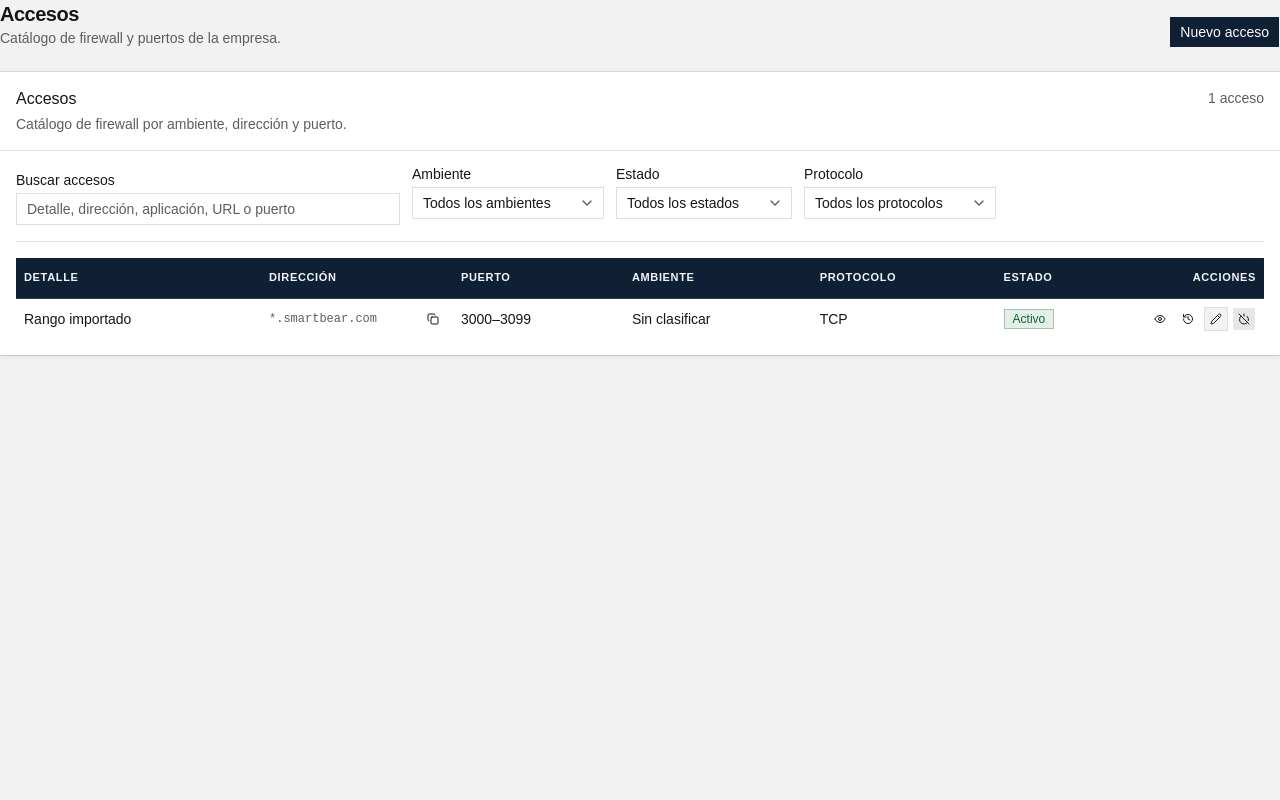
AccessesPage › muestra rango de puertos, ambiente sin clasificar y metadatos
The width and height of the screenshot is (1280, 800).
Expected: the text "3000–3099" is shown, [453,298,624,338]
Expected: the text "Sin clasificar" is shown, [624,298,812,338]
Step 1. Click the button named "Ver detalle de *.smartbear.com:3000–3099" → [1160, 318], box [1148,306,1172,330]
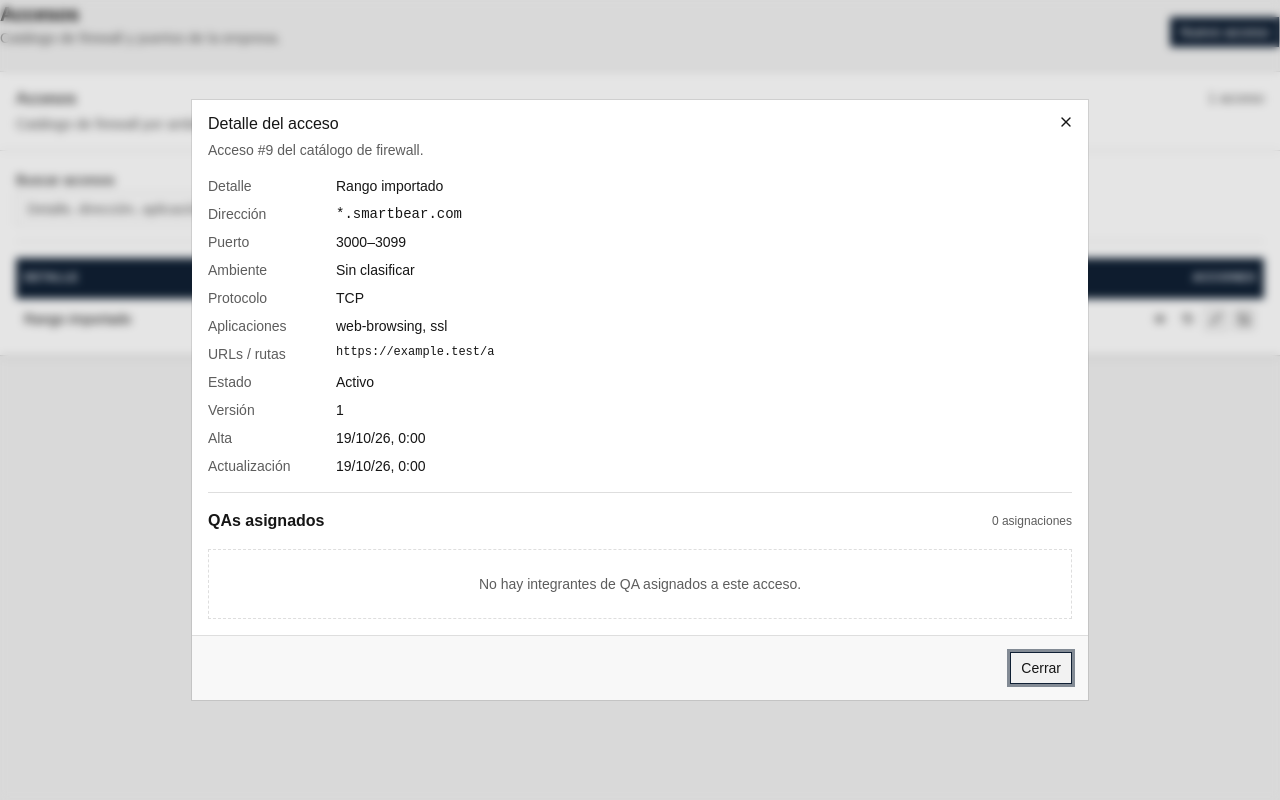
Expected: the text "web-browsing, ssl" is shown, [336,318,447,334]
Expected: the text "https://example.test/a" is shown, [336,345,494,359]
Expected: the text "3000–3099" is shown, [336,234,406,250]
